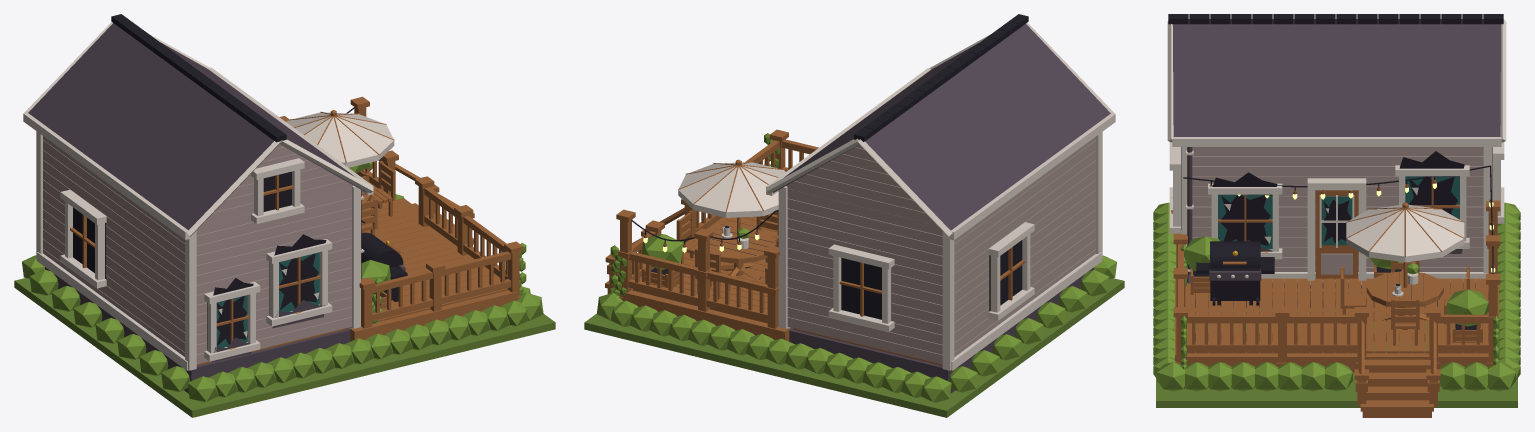
3 views of the same model, side by side, from view 1: azimuth 30°, elevation 25°; view 2: azimuth 150°, elevation 25°; view 3: azimuth 270°, elevation 25° (orthographic).
Parts seen in each view (by area): view 1: root_pal_picketWhite, roof_pal_picketWhite, body_pal_picketWhite, door_grill_lid_pal_picketWhite; view 2: root_pal_picketWhite, roof_pal_picketWhite, body_pal_picketWhite; view 3: root_pal_picketWhite, roof_pal_picketWhite, body_pal_picketWhite, door_back_pal_picketWhite, door_grill_lid_pal_picketWhite.
Boxes of the visible parts, left/top/right/bottom form: root_pal_picketWhite: left=14, top=96, right=555, bottom=417; roof_pal_picketWhite: left=23, top=14, right=373, bottom=239; body_pal_picketWhite: left=36, top=112, right=394, bottom=370; door_grill_lid_pal_picketWhite: left=361, top=232, right=403, bottom=267; root_pal_picketWhite: left=584, top=129, right=1124, bottom=417; roof_pal_picketWhite: left=766, top=14, right=1115, bottom=240; body_pal_picketWhite: left=678, top=132, right=1102, bottom=370; root_pal_picketWhite: left=1153, top=147, right=1520, bottom=417; roof_pal_picketWhite: left=1167, top=14, right=1506, bottom=146; body_pal_picketWhite: left=1169, top=142, right=1504, bottom=296; door_back_pal_picketWhite: left=1315, top=190, right=1358, bottom=279; door_grill_lid_pal_picketWhite: left=1210, top=241, right=1260, bottom=268.
Size of the model in its own units: 9.23 by 5.77 by 7.41.
